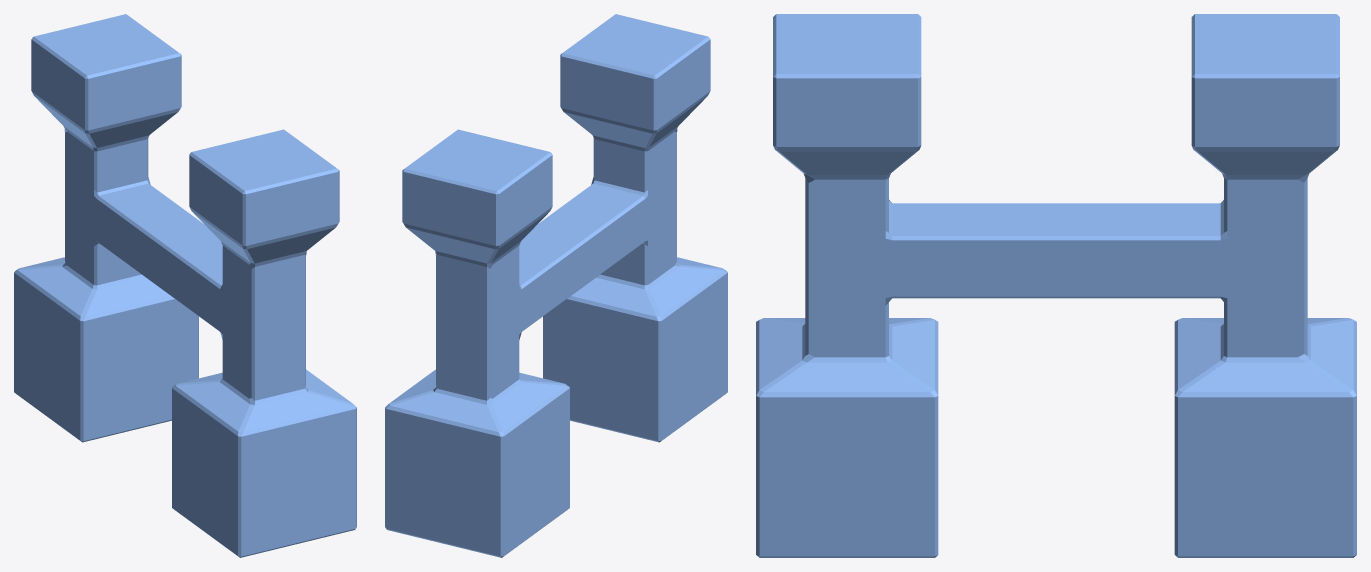
File: Extra 6.fbx
3 renders of one model, left to right at view 1: azimuth 30°, elevation 25°; view 2: azimuth 150°, elevation 25°; view 3: azimuth 270°, elevation 25°, orthographic. The views are drawn at different scales.
Visible parts, largest first — view 1: Extra 6; view 2: Extra 6; view 3: Extra 6.
Boxes of the visible parts, x1,y1,x2,y2 form: Extra 6: (14,14,356,557); Extra 6: (385,14,727,557); Extra 6: (756,14,1356,557).
Size of the model in its own units: 54.2 by 157 by 179.
